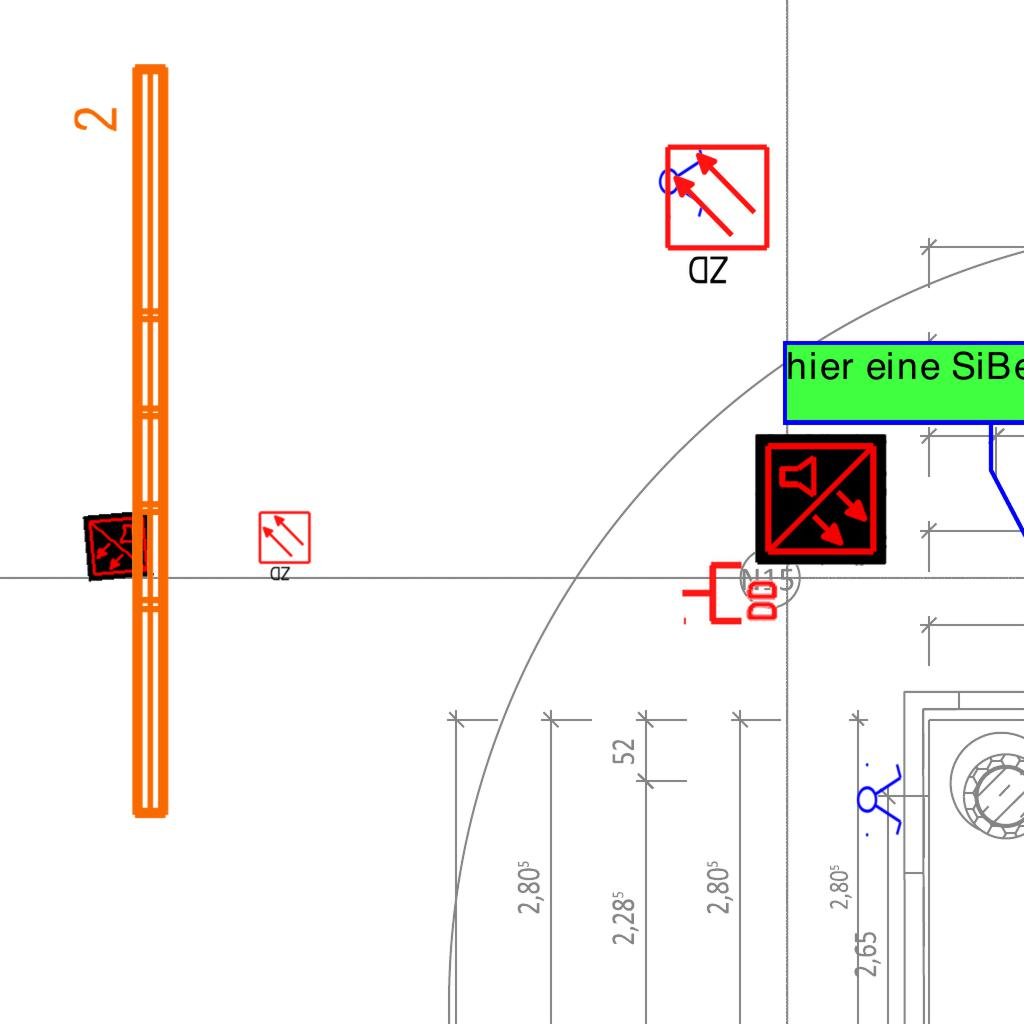Ambulanz_Pendelleuchte_LED: (69, 55, 181, 829)
Datenanschluss_zweifach: (679, 557, 782, 626)
OKW_Multisensormelder_(Kombination_optischer_Rauch-Kahlenmonoxid_Waerme-Melder): (755, 434, 887, 566), (82, 510, 154, 582)
Serienschalter: (856, 757, 904, 841), (658, 139, 706, 223)
ZD_Melder_in_Zwischendecke_mit_Revisionsoeffnung_mind_40_x_40_cm: (662, 142, 776, 291), (257, 510, 314, 584)
